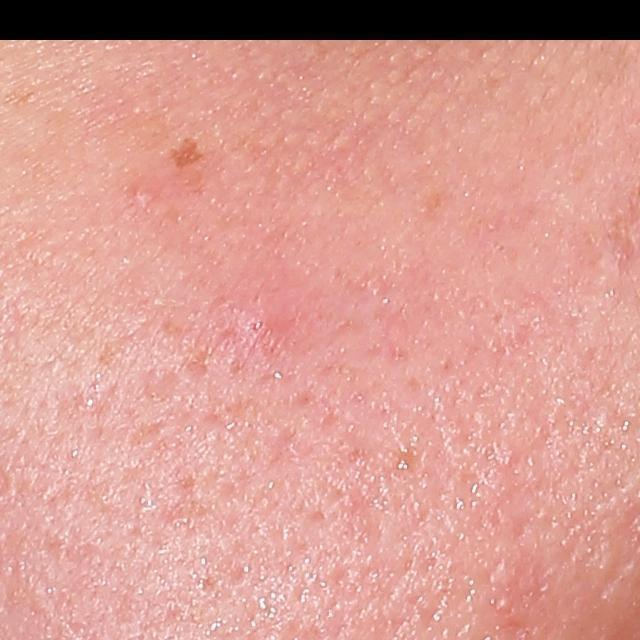melasma: (166, 134, 207, 171)
